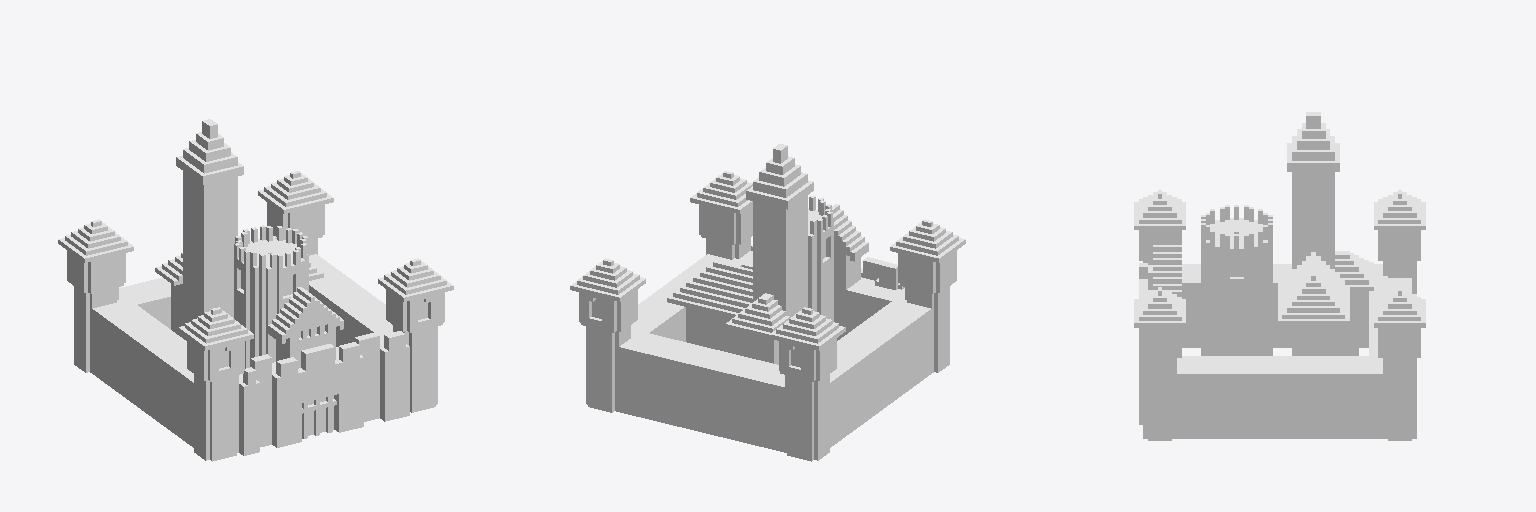
File: GoodFortress.obj
The picture shows the model from 3 angles: view 1: azimuth 30°, elevation 25°; view 2: azimuth 150°, elevation 25°; view 3: azimuth 270°, elevation 25°; orthographic projection.
Parts seen in each view (by area): view 1: object 1; view 2: object 1; view 3: object 1.
Part boxes in pixels (x1,y1,x2,y2): object 1: (58,119,453,461); object 1: (570,144,965,461); object 1: (1134,112,1425,440).
Bounding box in the file's own units: 6 × 5.9 × 6.1.